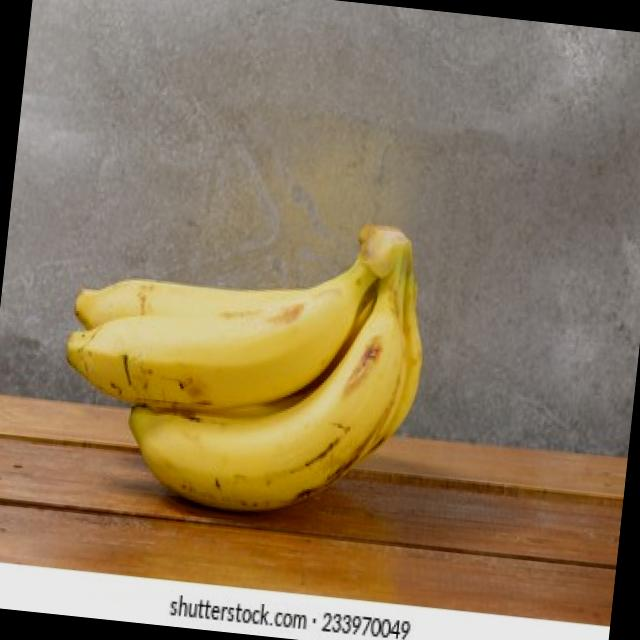banana: (47, 185, 439, 537)
